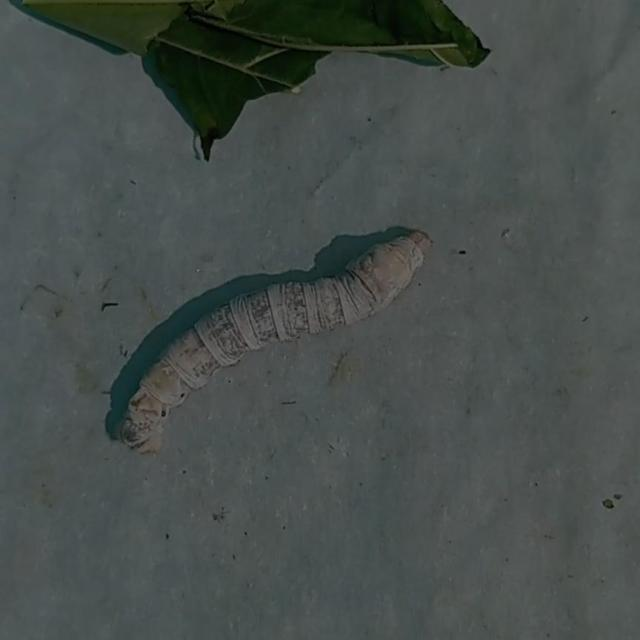Grasserie: (104, 211, 442, 470)
